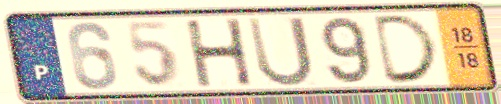5: (123, 19, 184, 90)
6: (65, 20, 120, 92)
9: (316, 15, 376, 86)
D: (371, 12, 444, 86)
H: (182, 16, 257, 90)
U: (244, 14, 317, 89)
